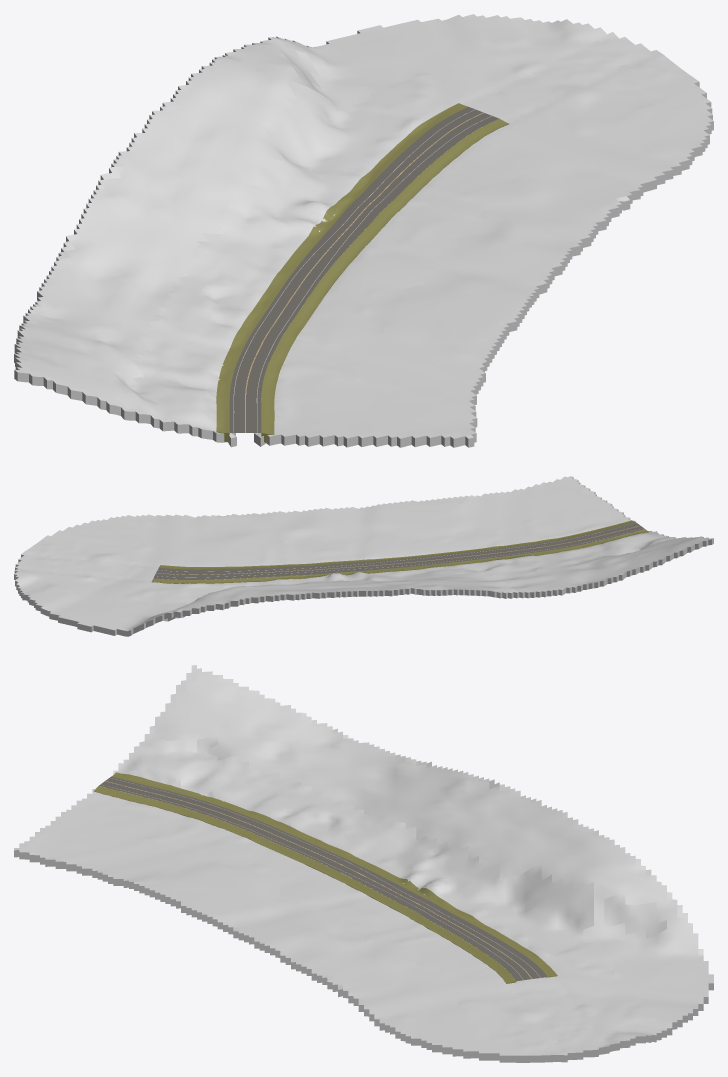
File: conz_132.glb
3 views of the same model, one above another, from view 1: azimuth 30°, elevation 25°; view 2: azimuth 150°, elevation 25°; view 3: azimuth 270°, elevation 25° (orthographic). The views are drawn at different scales.
Parts seen in each view (by area): view 1: terrain132, road132, verge132L, verge132R, paint_white132; view 2: terrain132, road132, verge132R, verge132L, paint_yellow132, paint_white132; view 3: terrain132, road132, verge132L, verge132R.
Boxes of the visible parts, x1,y1,x2,y2 form: terrain132: (14,14,713,447); road132: (229,107,499,432); verge132L: (261,119,508,442); verge132R: (216,103,467,441); paint_white132: (233,109,491,432); terrain132: (14,476,713,636); road132: (153,522,644,579); verge132R: (151,529,649,583); verge132L: (159,520,635,569); paint_yellow132: (156,525,640,574); paint_white132: (157,532,600,577); terrain132: (14,665,713,1062); road132: (99,776,547,981); verge132L: (93,786,516,983); verge132R: (111,772,557,977).
Size of the model in its own units: 306 by 26.17 by 268.
